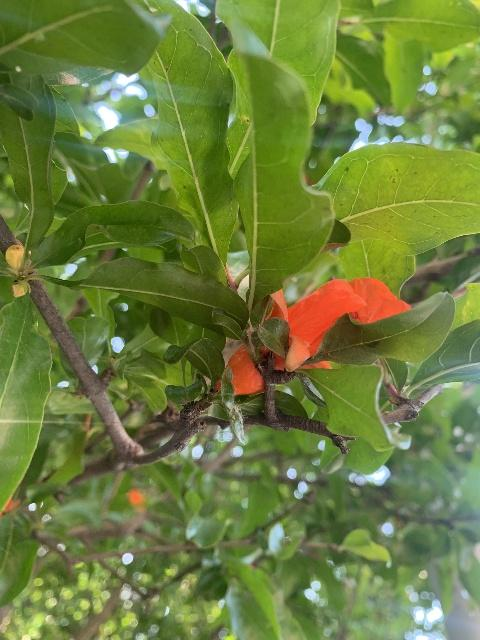flower: (223, 276, 411, 395)
